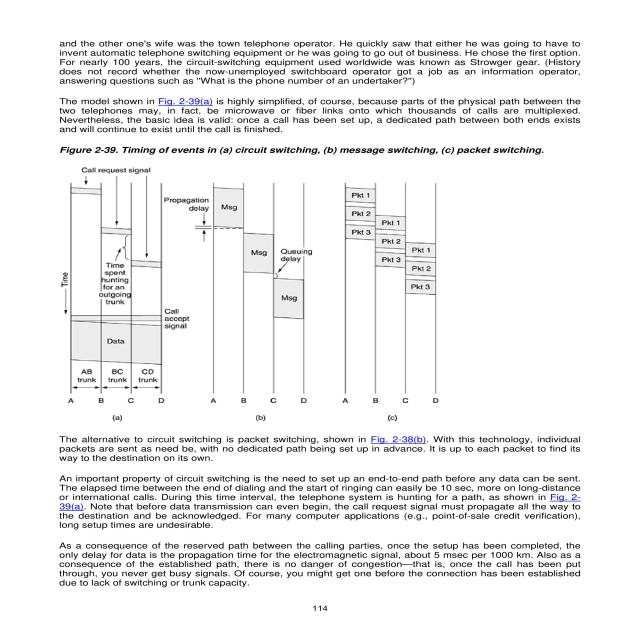diagram: (54, 140, 550, 430)
